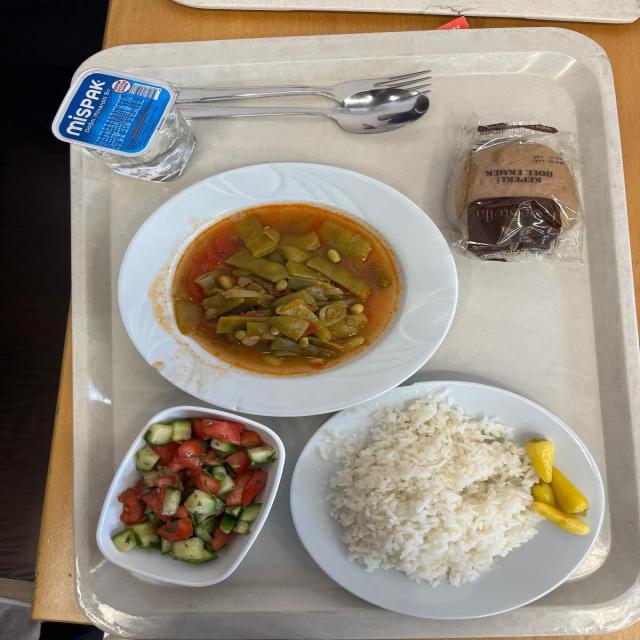ana_yemek: (119, 166, 449, 403), (292, 385, 572, 621)
yan_yemek: (95, 410, 283, 589)
